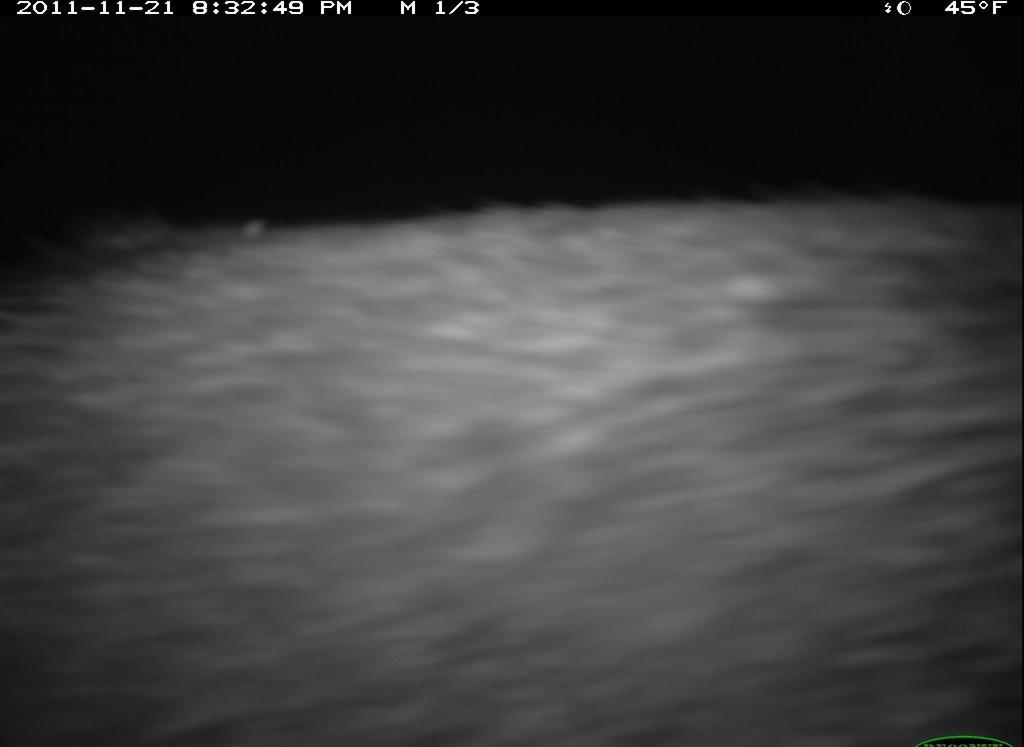raccoon: (6, 190, 1021, 745)
